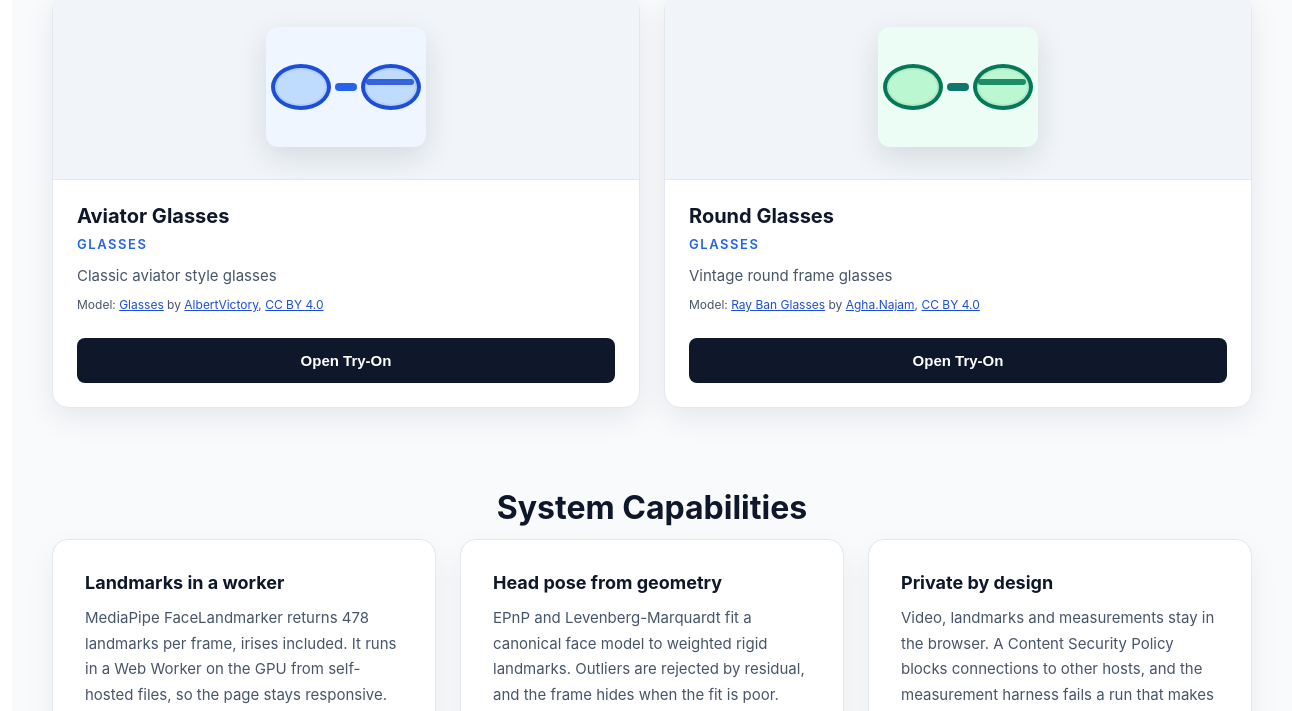
Scenario: Home › opens the try-on page for the chosen frame
The image size is (1292, 711).
(page scrolled)
Click the button "Open Try-On" below "Ray Ban Glasses": (958, 360) [689,338,1227,383]
(page scrolled)
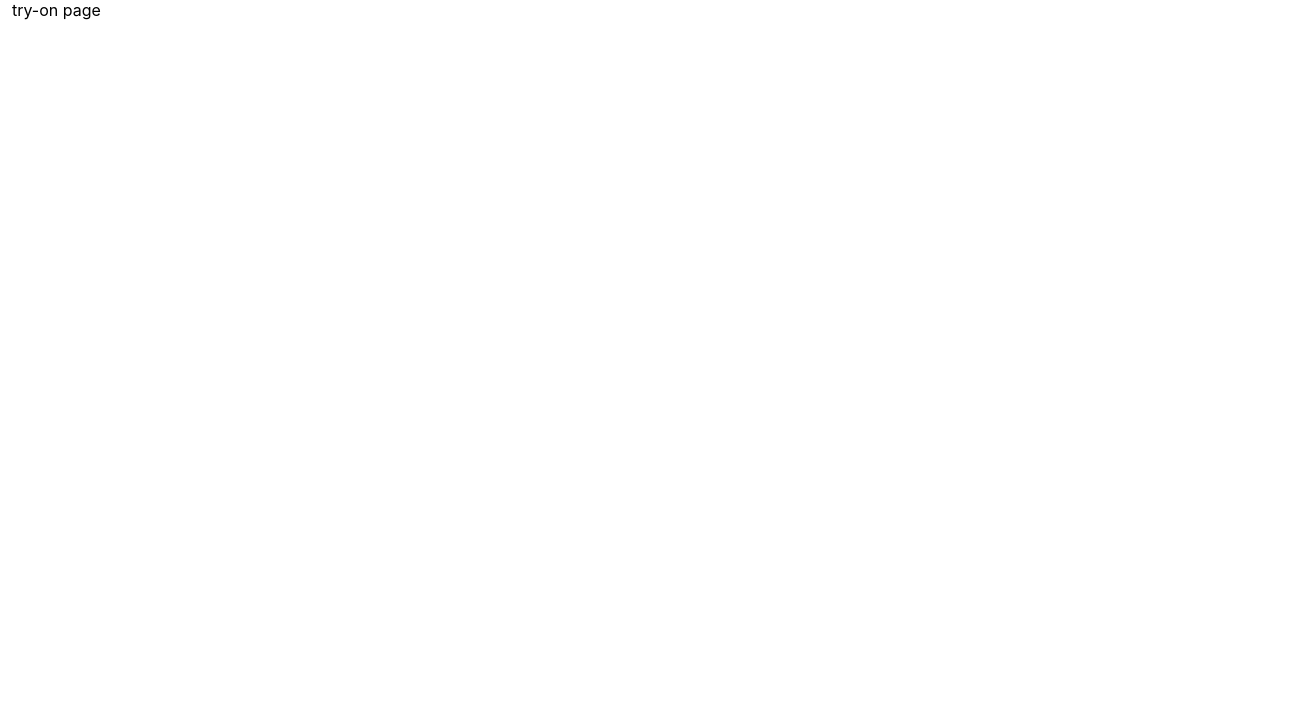
Check: the text "try-on page" is shown, box [12,0,101,20]
